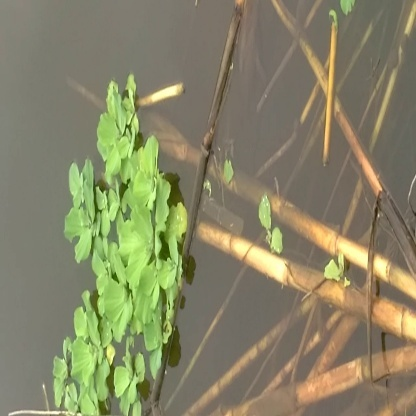branch: (214, 159, 416, 338)
